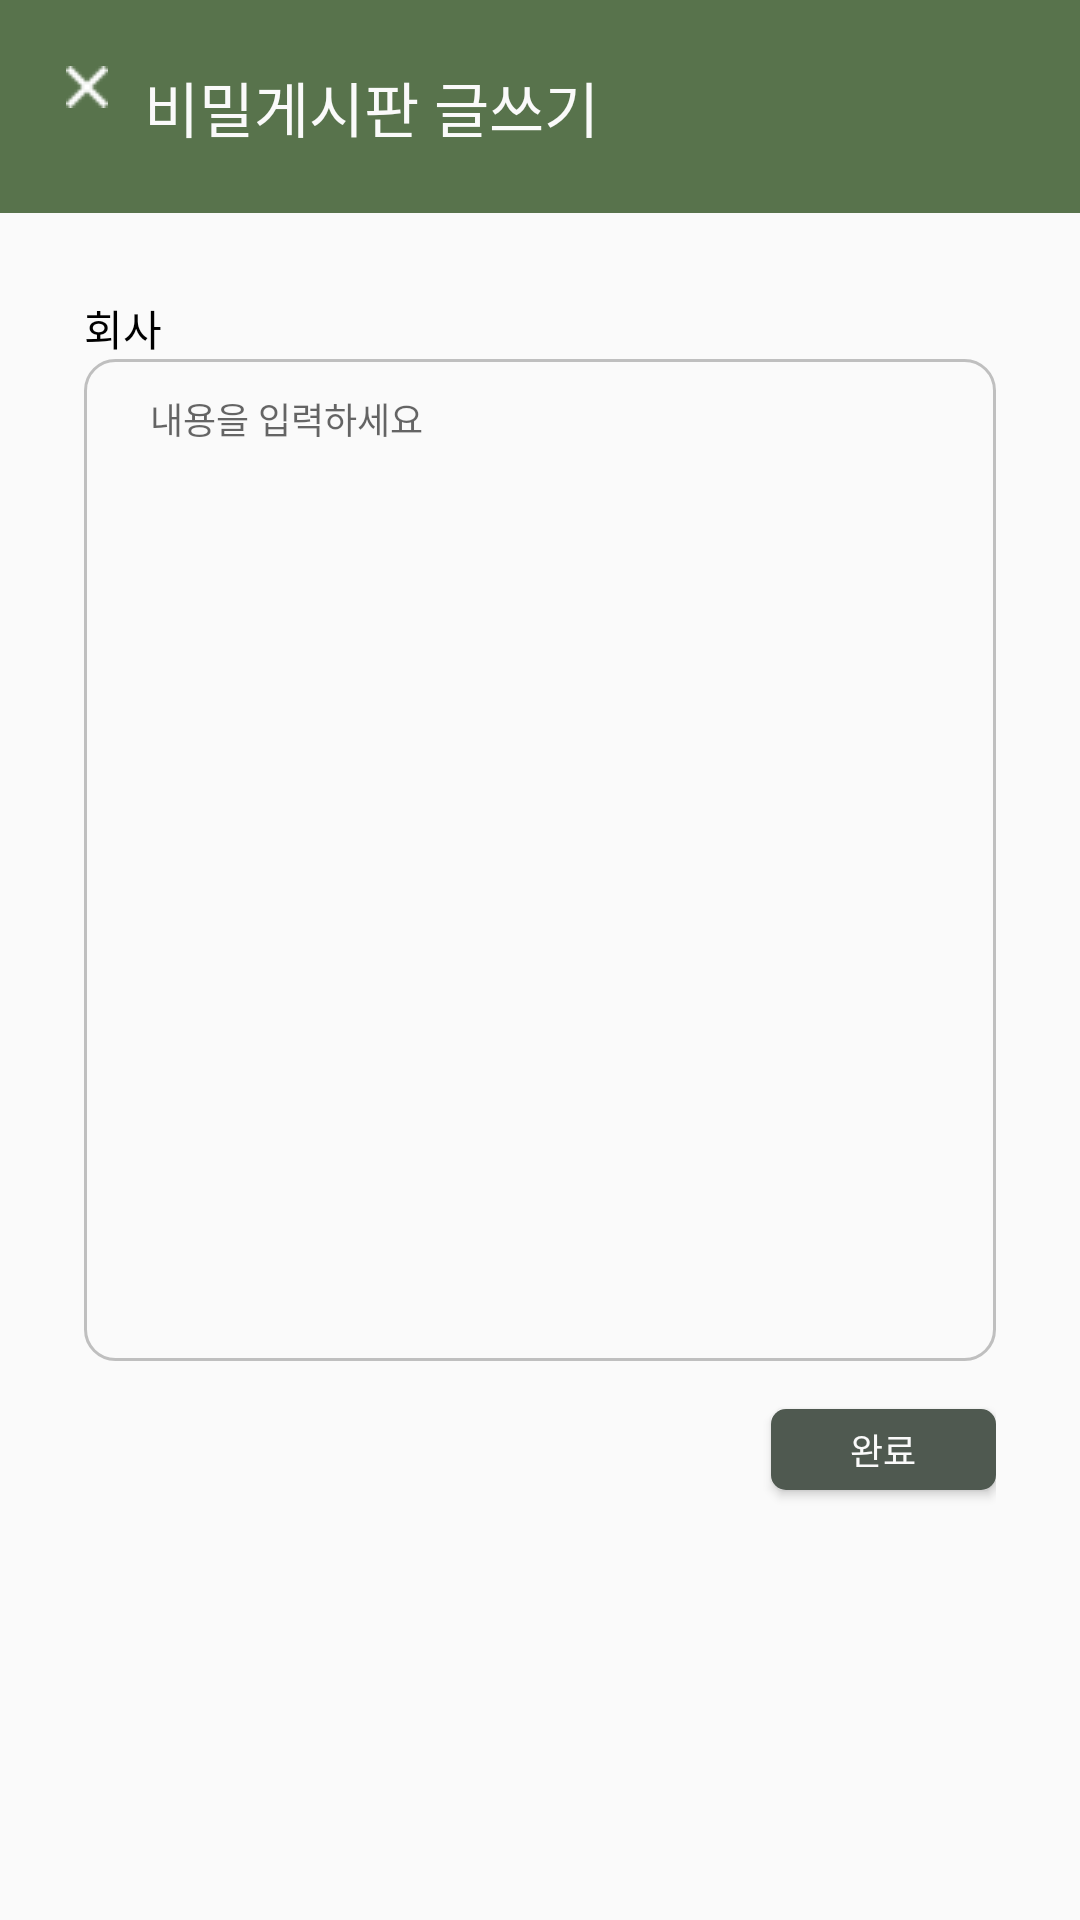

Icon bounding boxes for this 1080px x 1920px phone screenshot, format box=[x1, y1, x2, y2]:
exit: box=[66, 66, 108, 108]
